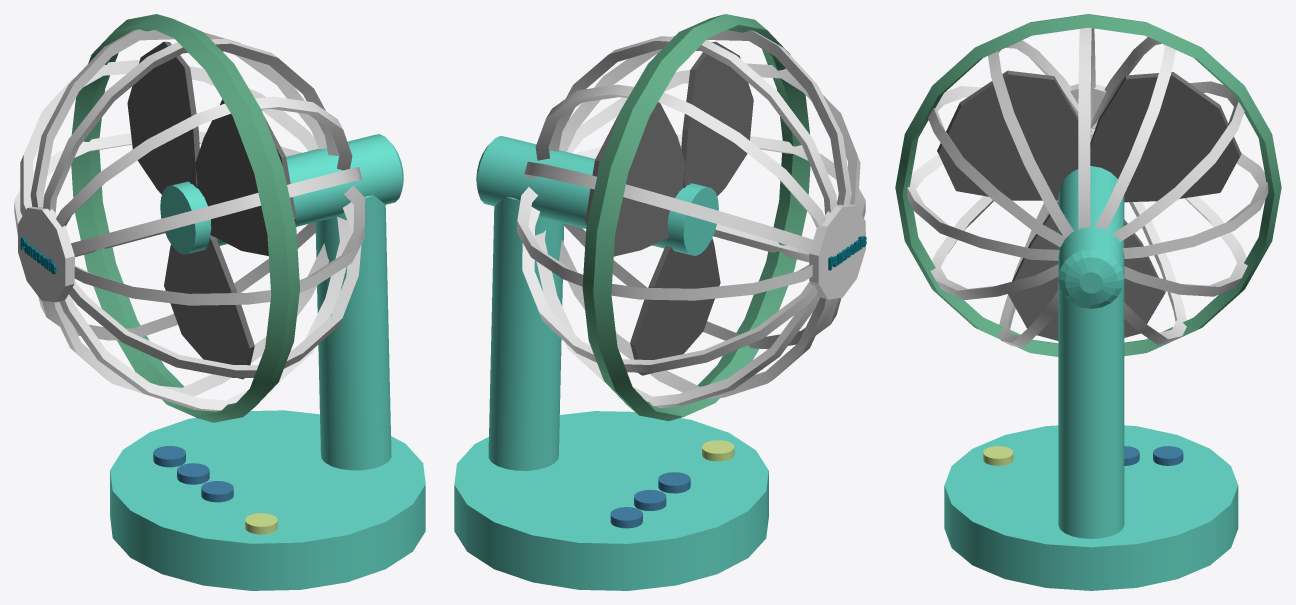
File: Fan.fbx
3 views of the same model, side by side, from view 1: azimuth 30°, elevation 25°; view 2: azimuth 150°, elevation 25°; view 3: azimuth 270°, elevation 25° (orthographic). The views are drawn at different scales.
Visible parts, largest first — view 1: pasted__pasted__pasted__pasted__pTorus1; view 2: pasted__pasted__pasted__pasted__pTorus1; view 3: pasted__pasted__pasted__pasted__pTorus1.
Boxes of the visible parts, x1,y1,x2,y2 form: pasted__pasted__pasted__pasted__pTorus1: (14, 14, 425, 590); pasted__pasted__pasted__pasted__pTorus1: (454, 14, 866, 590); pasted__pasted__pasted__pasted__pTorus1: (895, 14, 1281, 590).
Bounding box in the file's own units: 5.5 × 7.3 × 5.34.
